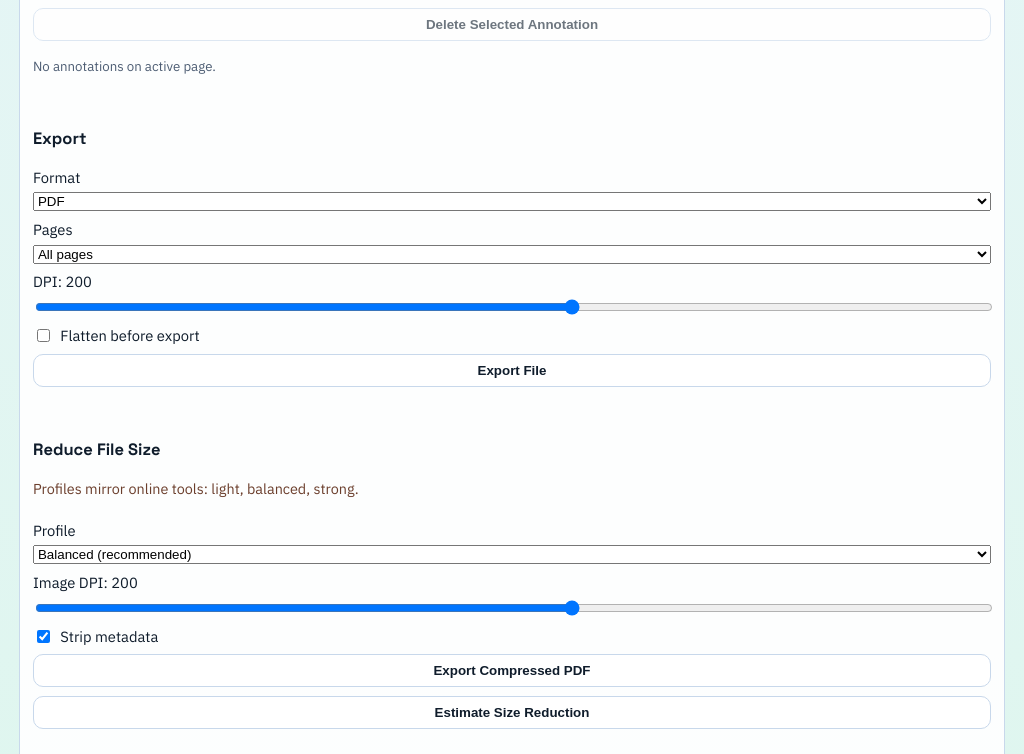
Test: App flows › completes async export by polling job progress
(page scrolled)
Click the button "Export File": (512, 370) [33,354,991,386]
(page scrolled)
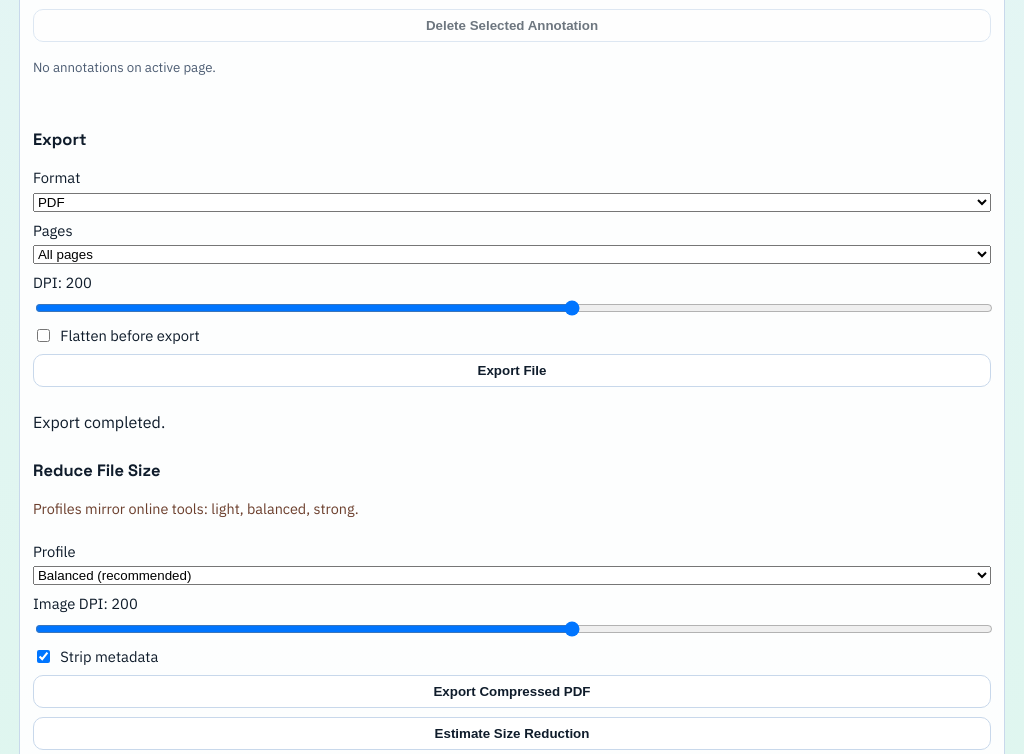
expect the text "Export completed." is shown: met, box [33,412,165,432]
